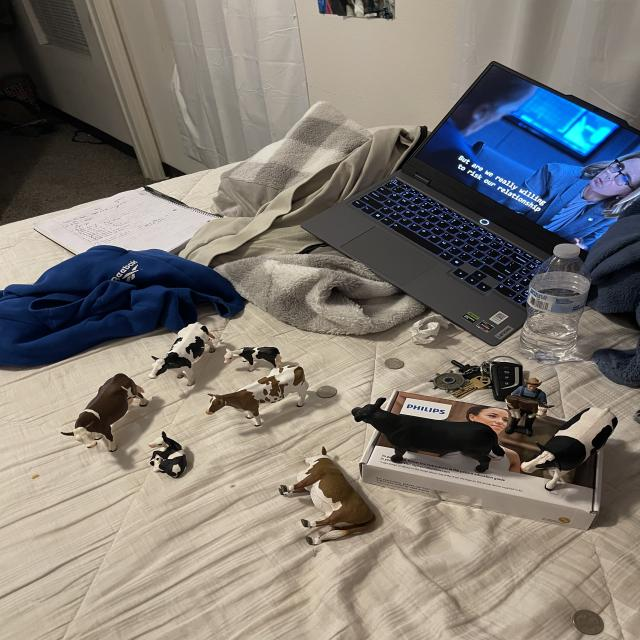cow: (342, 391, 510, 488), (268, 446, 377, 559), (514, 393, 625, 497), (200, 357, 317, 443), (61, 367, 158, 468), (142, 311, 223, 400), (138, 429, 197, 486), (503, 392, 554, 421), (226, 346, 280, 369)
person: (510, 373, 555, 409)
